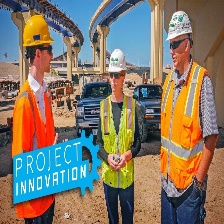helmet: (22, 14, 55, 49), (164, 7, 195, 41), (107, 46, 129, 75)
person: (158, 11, 218, 224), (96, 47, 141, 224), (13, 12, 58, 150)
vest: (160, 68, 210, 202), (96, 96, 140, 196), (15, 90, 57, 146)
